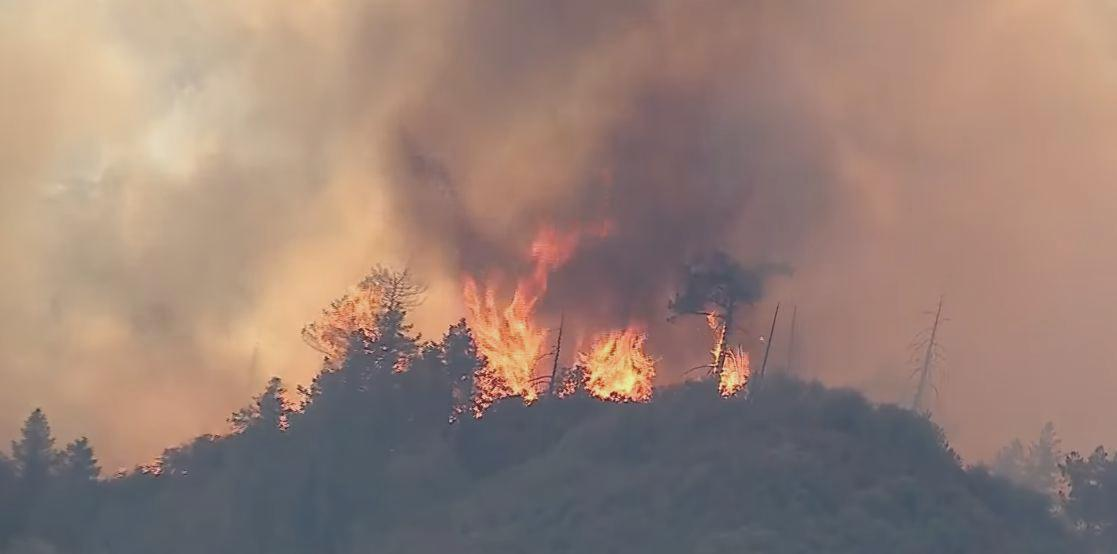Fire: (450, 228, 559, 414), (569, 318, 662, 409), (697, 309, 766, 407)
